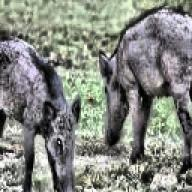boar: (97, 4, 192, 173), (0, 34, 81, 192)
